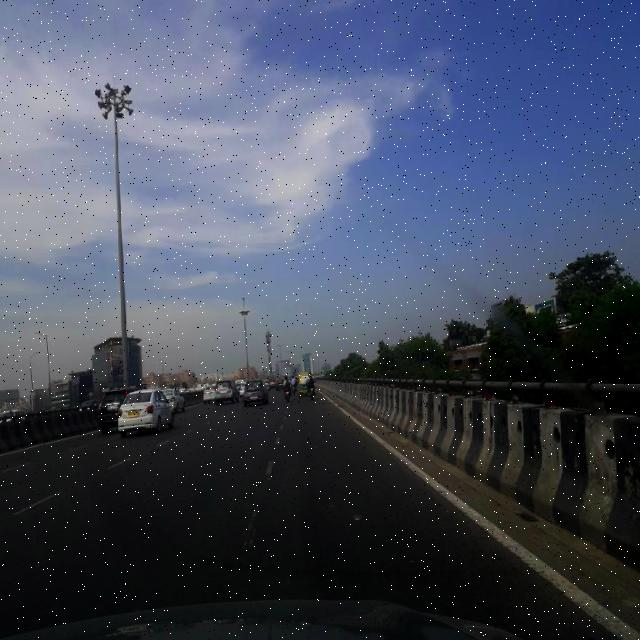D44: (238, 445, 276, 567)
